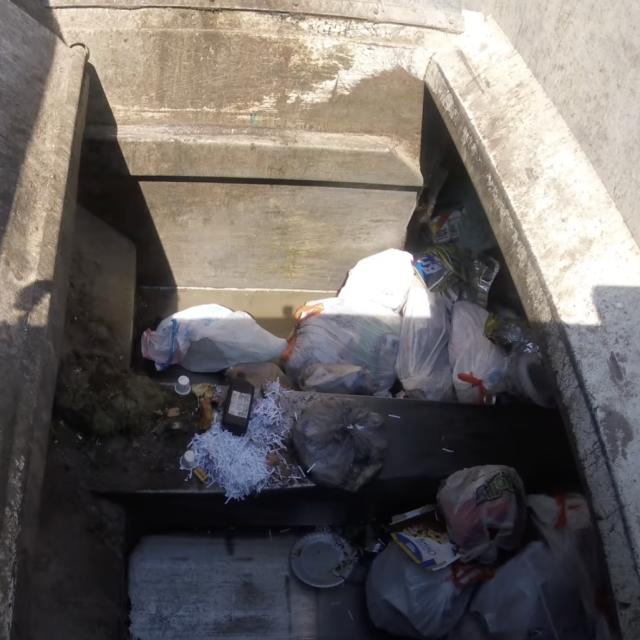bag: (352, 250, 501, 403), (122, 278, 290, 370), (286, 288, 404, 392), (438, 464, 529, 573)
glass: (163, 371, 210, 442)
paper: (375, 507, 473, 578)
trash: (279, 527, 362, 594), (176, 447, 211, 487)
